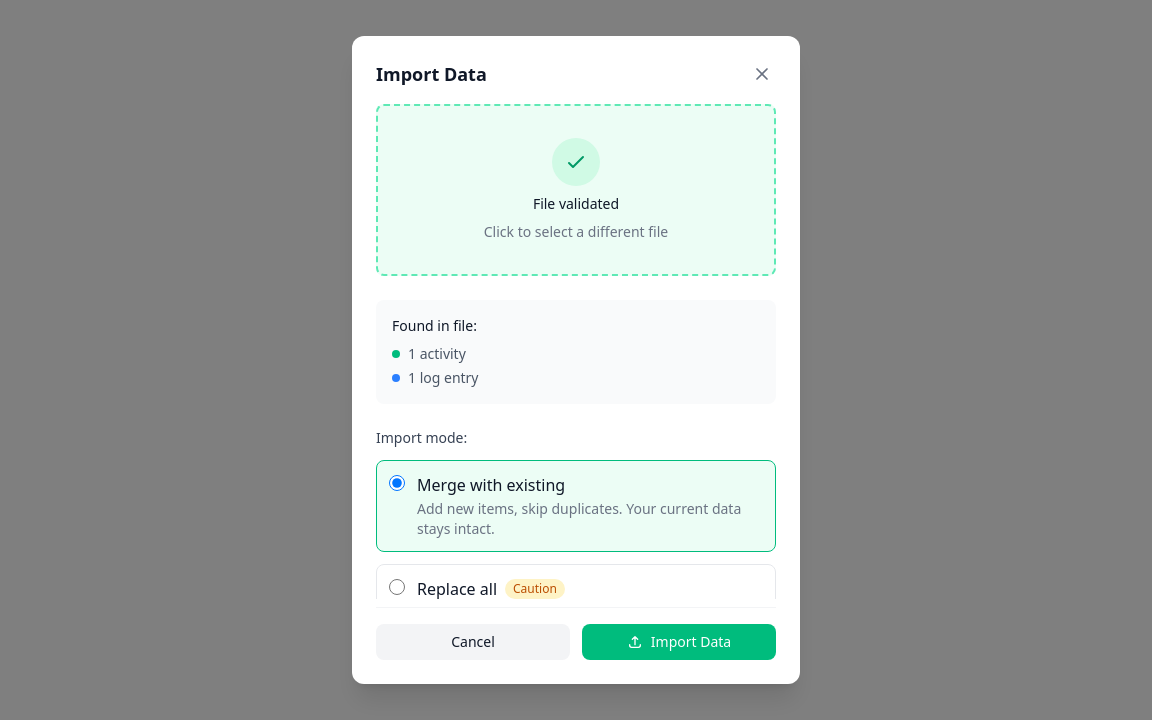
Test: the counts it speaks of › still says activities and logs when there are more
The width and height of the screenshot is (1152, 720).
Earlier steps of the test are not shown.
Check: the button "Import Data" is enabled, box [582,624,776,660]
Click the radio button labelled "Replace all Caution Clear all current data and import fresh." at (397,587), box [389,579,405,595]
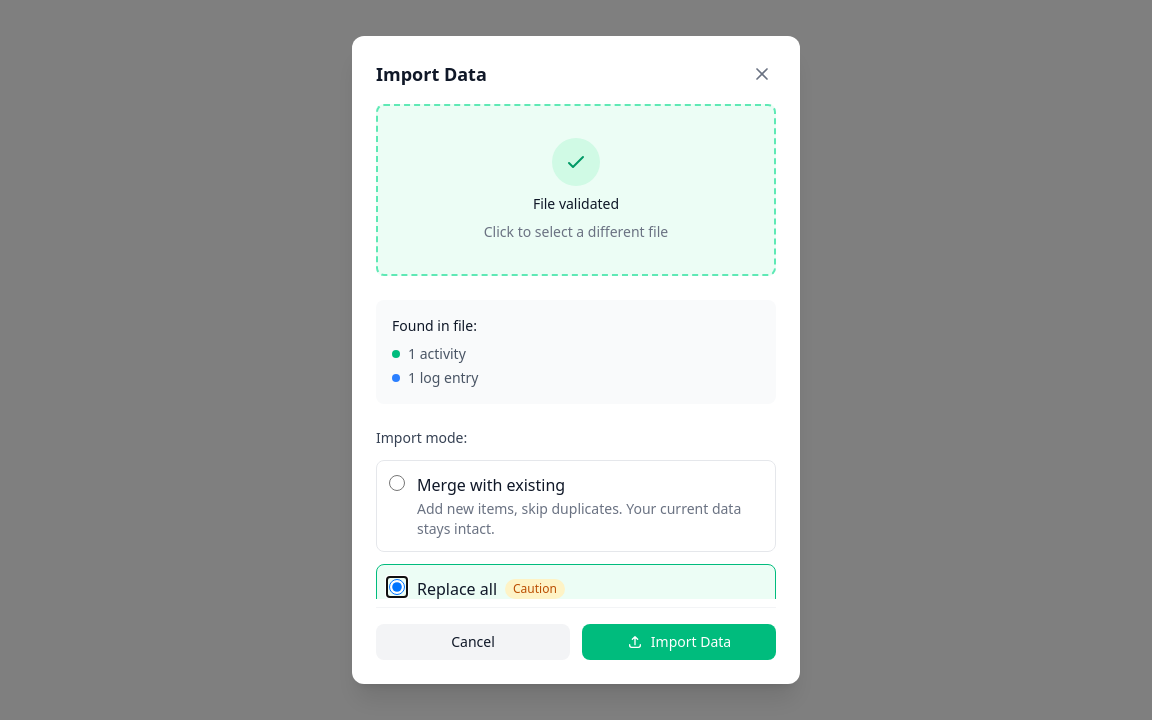
Click the button "Import Data" at (679,642), box [582,624,776,660]
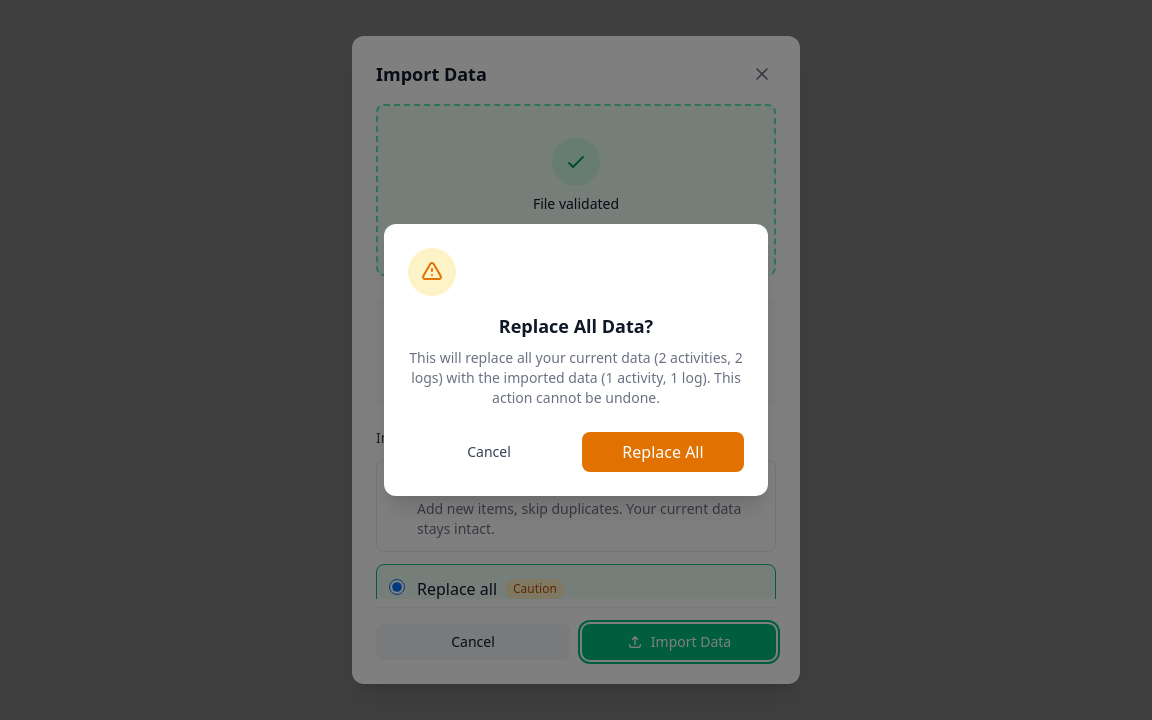
Check: the text "current data (2 activities, 2 logs)" is shown, box [409,348,743,407]
